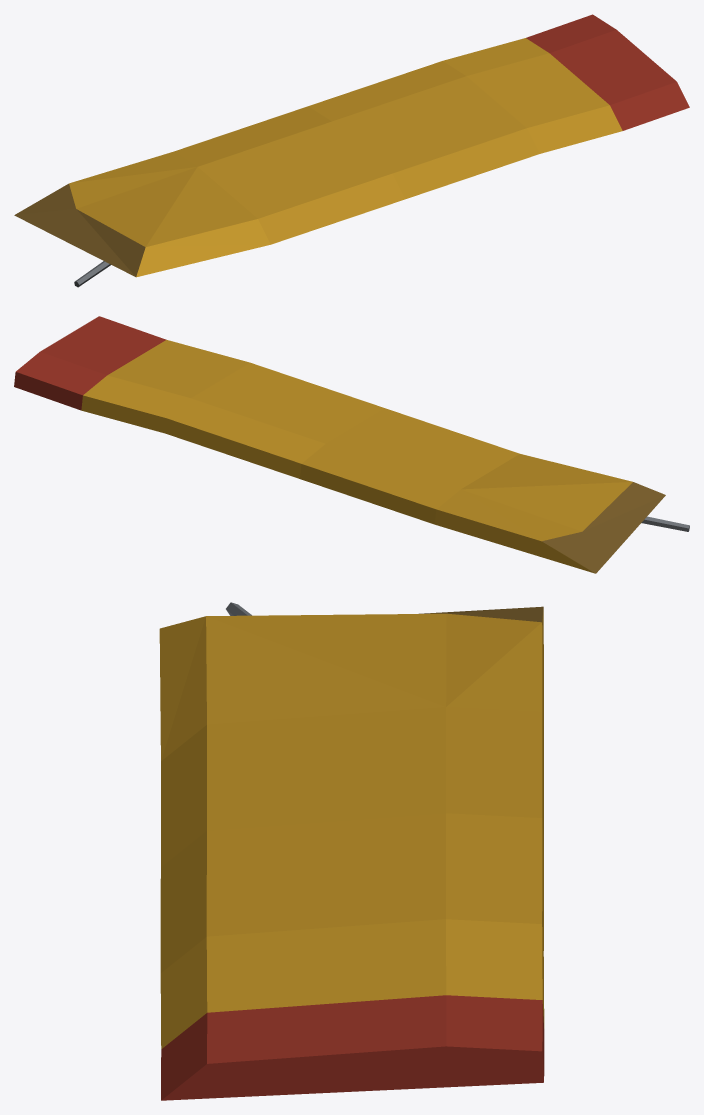
The model's file is plane-wing.glb.
3 views of the same model, one above another, from view 1: azimuth 30°, elevation 25°; view 2: azimuth 150°, elevation 25°; view 3: azimuth 270°, elevation 25° (orthographic). The views are drawn at different scales.
Visible parts, largest first — view 1: plane-wing; view 2: plane-wing; view 3: plane-wing.
Boxes of the visible parts, left/top/right/bottom form: plane-wing: left=14, top=14, right=689, bottom=287; plane-wing: left=14, top=316, right=689, bottom=573; plane-wing: left=159, top=602, right=544, bottom=1100.
Bounding box in the file's own units: 5.75 × 0.6781 × 1.6.
